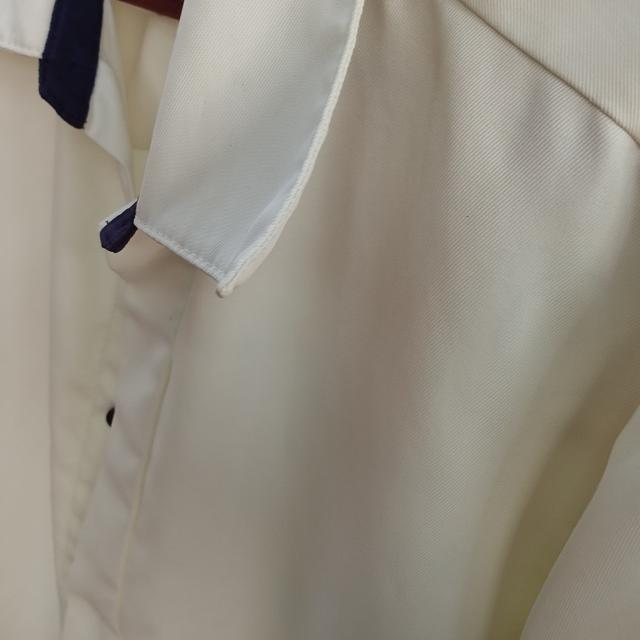education_male_uniform: (0, 3, 481, 432)
